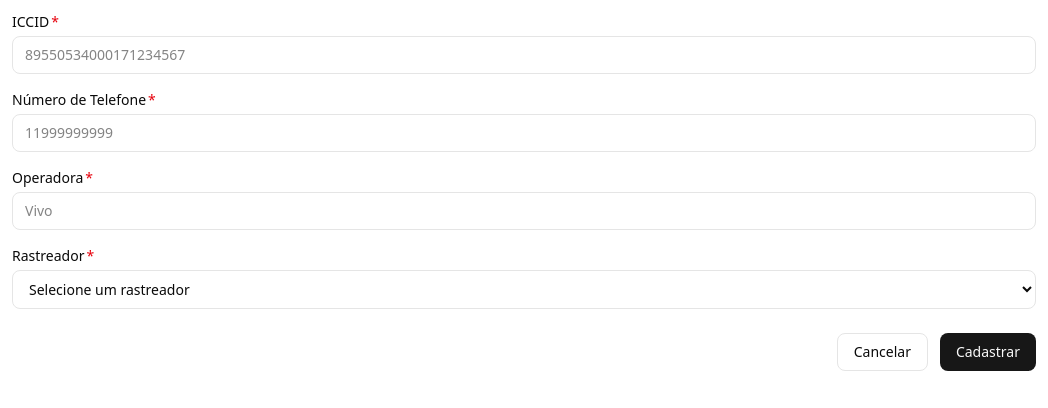
Test case: ChipForm › número de telefone com menos de 10 chars → erro após blur
The image size is (1048, 408).
Type "12345" into the field labelled "Número de Telefone*" at (524,133), box top-left (12, 114), bottom-right (1036, 152)
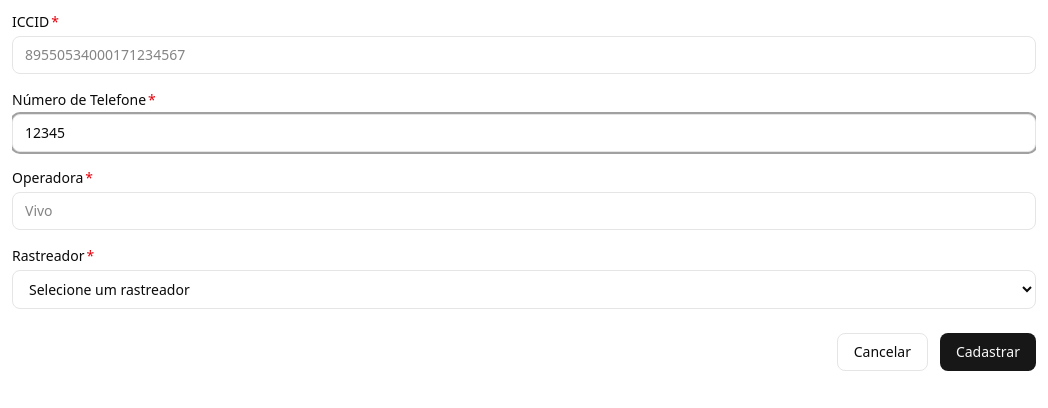
Press Tab
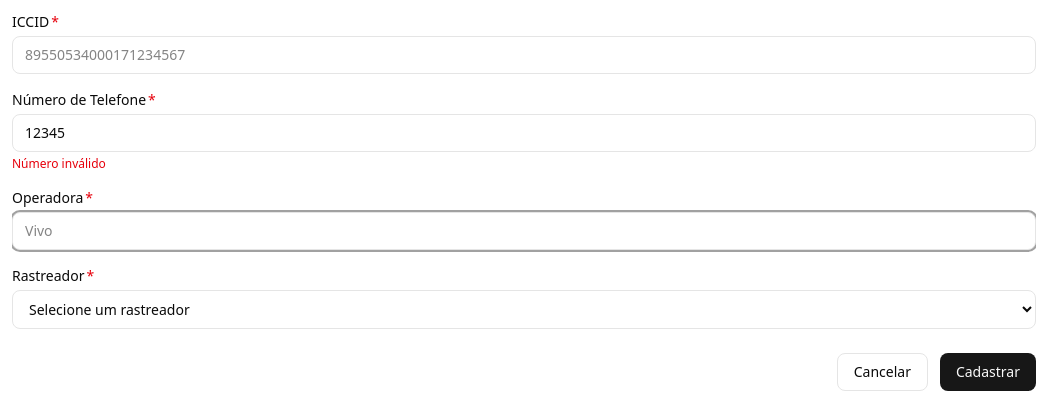
Now the message reads "Número inválido", box top-left (12, 155), bottom-right (106, 172)
